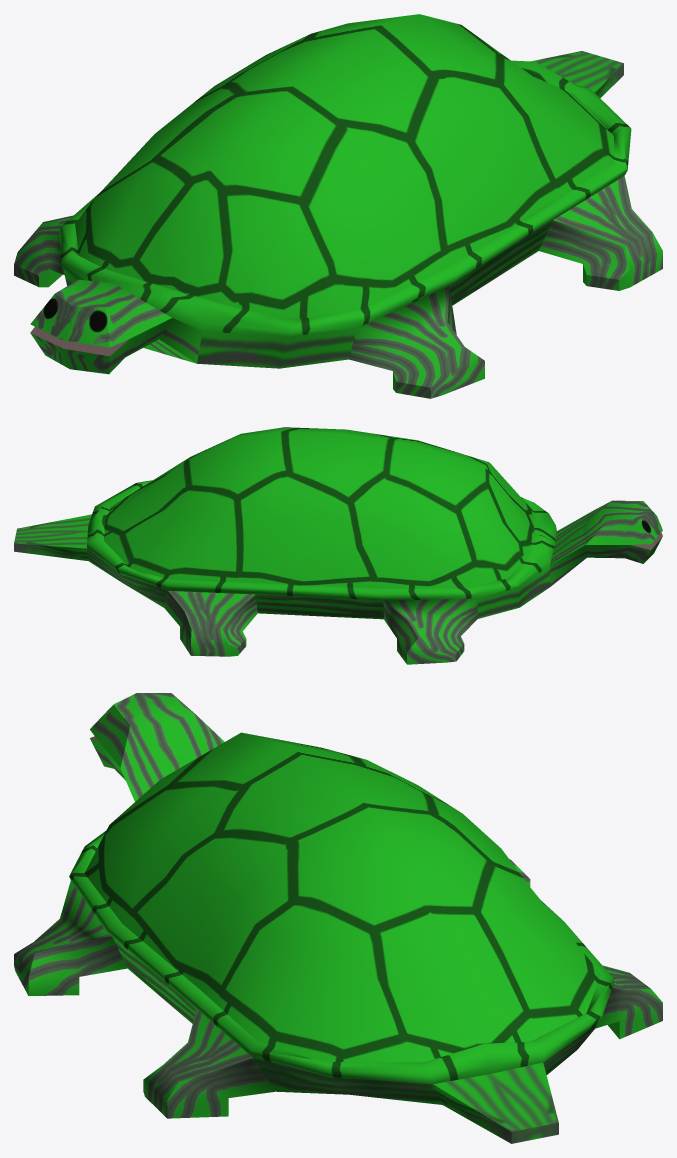
File: turtle.dae
3 views of the same model, one above another, from view 1: azimuth 30°, elevation 25°; view 2: azimuth 150°, elevation 25°; view 3: azimuth 270°, elevation 25° (orthographic). The views are drawn at different scales.
Visible parts, largest first — view 1: turtle_001; view 2: turtle_001; view 3: turtle_001.
Boxes of the visible parts, <box> form: turtle_001: <box>14,14,662,398</box>; turtle_001: <box>14,427,662,664</box>; turtle_001: <box>14,693,662,1143</box>.
Bounding box in the file's own units: 2.98 × 2.17 × 0.8133.
1 material, 1 textured.
